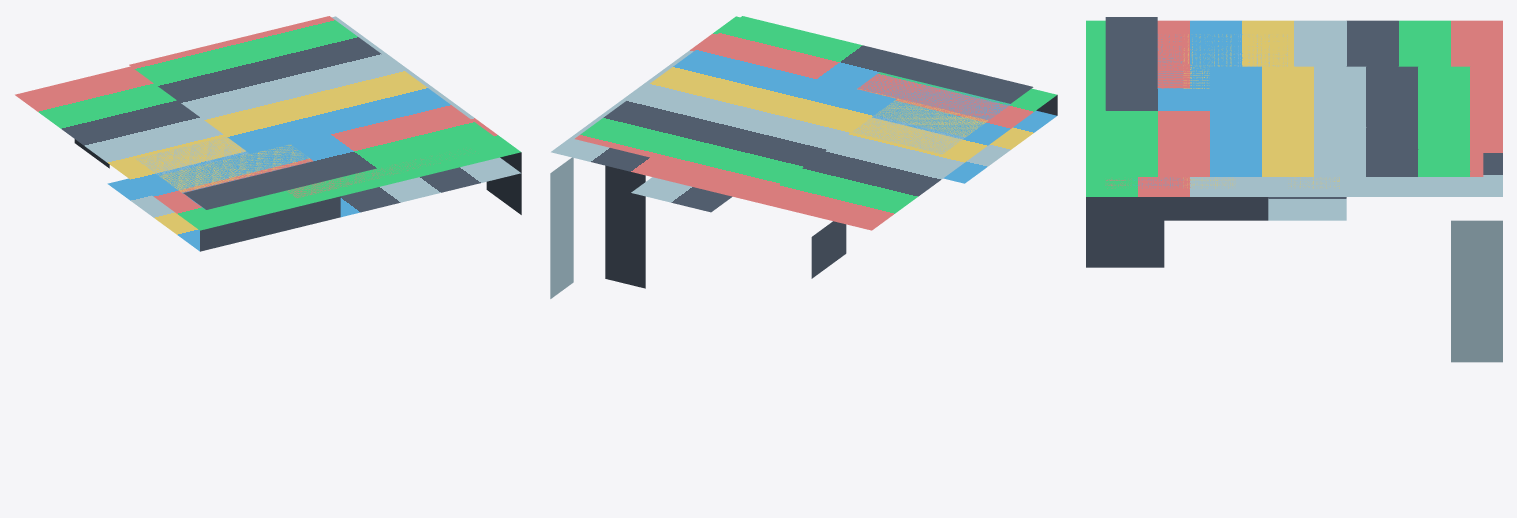
File: table.obj
3 views of the same model, side by side, from view 1: azimuth 30°, elevation 25°; view 2: azimuth 150°, elevation 25°; view 3: azimuth 270°, elevation 25° (orthographic). The views are drawn at different scales.
Visible parts, largest first — view 1: cube; view 2: cube; view 3: cube.
Boxes of the visible parts, <box> form: cube: <box>15,16,521,251</box>; cube: <box>550,16,1057,298</box>; cube: <box>1086,17,1502,362</box>.
Size of the model in its own units: 1 by 0.8594 by 1.
